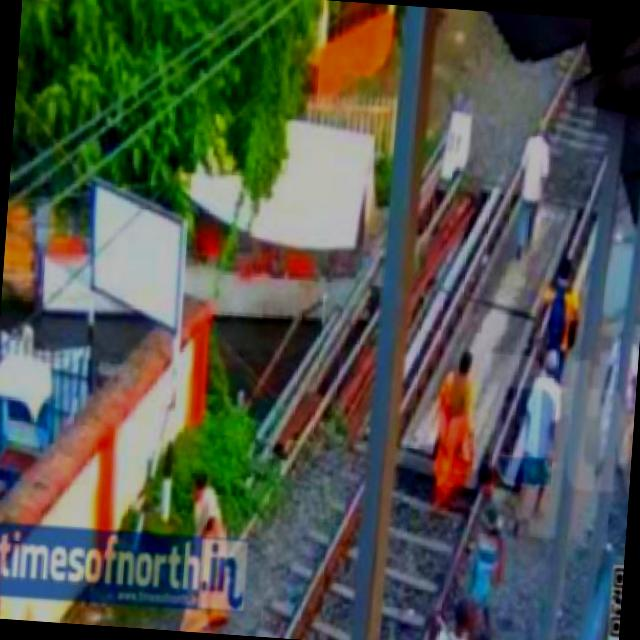Person: (459, 460, 510, 640), (429, 344, 482, 512), (516, 116, 553, 258)
